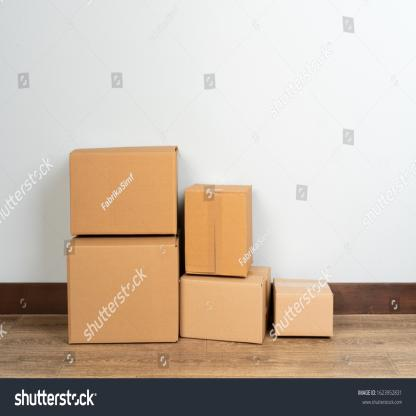box: (68, 245, 178, 345), (69, 148, 177, 236), (184, 189, 248, 278), (179, 278, 262, 344), (274, 289, 334, 338)
